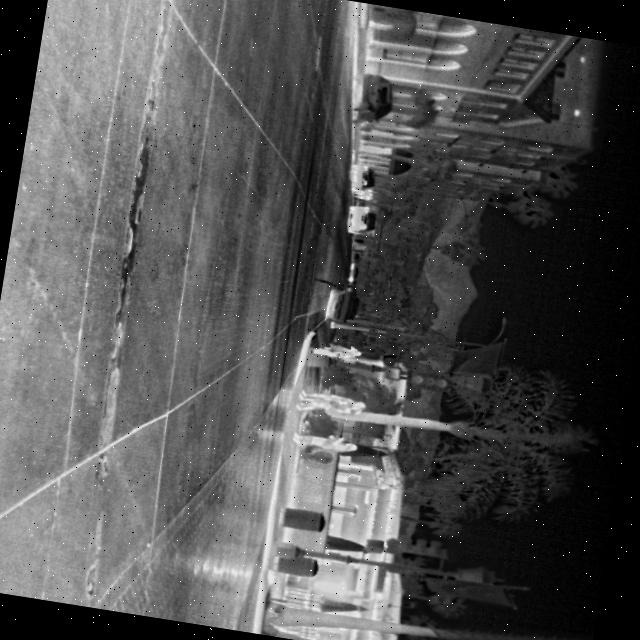Pedestrian: (293, 386, 368, 421), (289, 428, 359, 458), (320, 341, 363, 362)
Vehicle: (348, 70, 400, 128), (322, 286, 362, 327), (342, 202, 382, 240), (348, 162, 378, 192)
